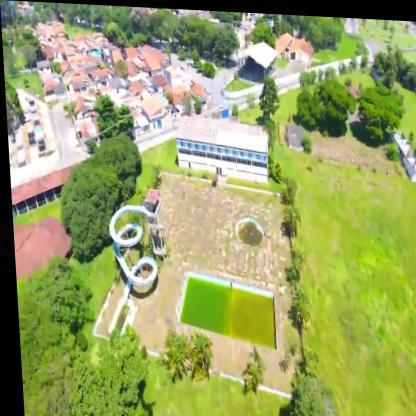agua: (184, 270, 265, 337), (232, 211, 263, 245)
